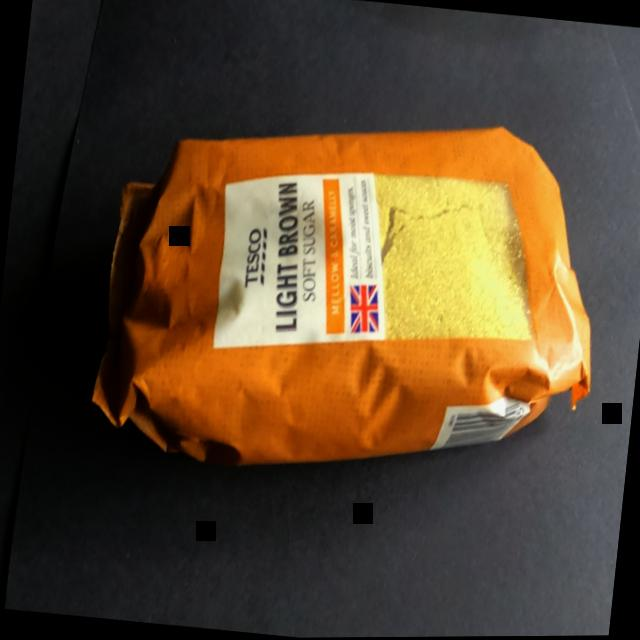Brownsugar: (61, 55, 640, 520)
